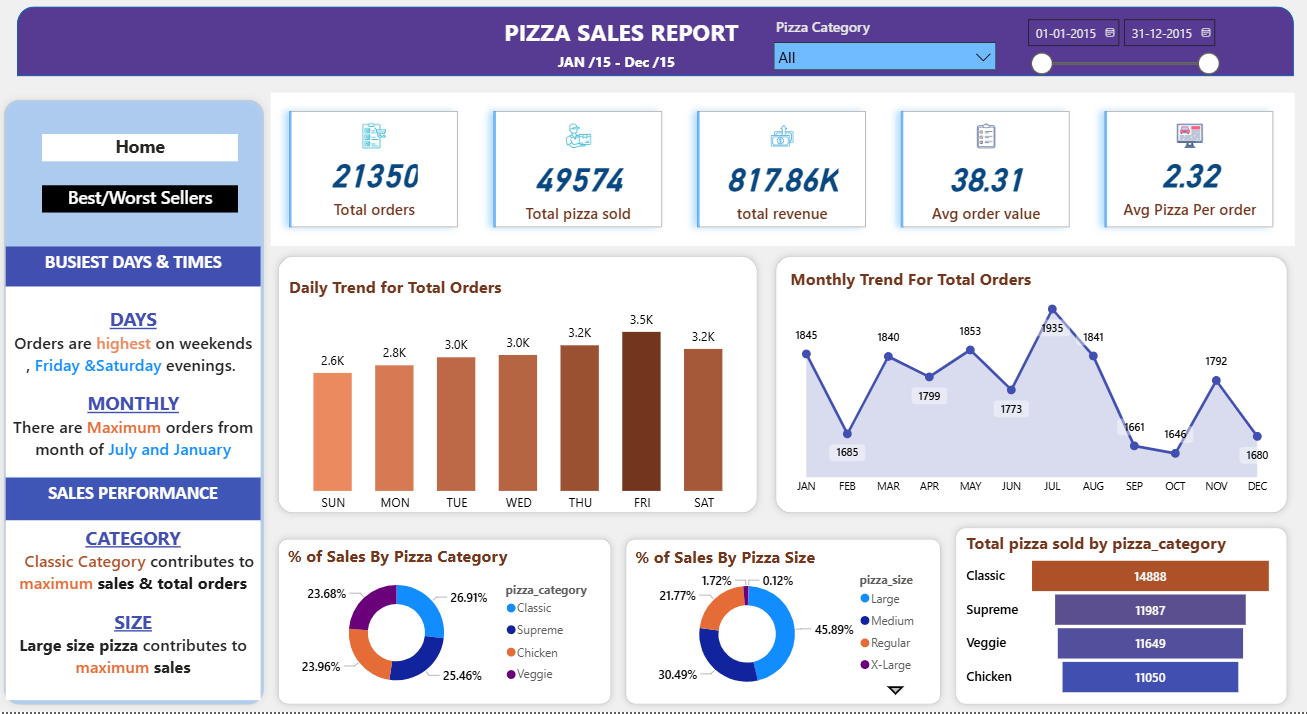

The dashboard page shown, as its layout file describes it:
{"tool":"powerbi","page":{"name":"HOME","canvas":[1500,820],"ordinal":0},"visuals":[{"type":"shape","box":[0,113,313,707.2],"z":0},{"type":"cardVisual","fields":{"Data":["pizza_sales (1).Total orders","pizza_sales (1).Total pizza sold","pizza_sales (1).total revenue","pizza_sales (1).Avg order value","pizza_sales (1).Avg Pizza Per order"]},"box":[312.5,112.5,1170.3,175],"z":1000},{"type":"shape","box":[23.4,14.1,1459.4,79.7],"z":2000},{"type":"textbox","box":[545.3,20.3,335.9,54.7],"z":3000},{"type":"textbox","box":[635.8,61.2,144.8,32.8],"z":4000},{"type":"shape","box":[312.9,291.4,564.3,310],"z":5000},{"type":"columnChart","title":"Daily Trend for Total Orders","fields":{"Category":["pizza_sales (1).Order Day"],"Y":["pizza_sales (1).Total orders"]},"box":[328.1,321.9,535.9,279.7],"z":6000},{"type":"shape","box":[881.4,291.4,601.4,310],"z":7000},{"type":"areaChart","title":"Monthly Trend For Total Orders","fields":{"Category":["pizza_sales (1).Order Month"],"Y":["pizza_sales (1).Total orders"]},"box":[901.4,312.9,562.9,268.6],"z":8000},{"type":"shape","box":[312.9,614.3,397.1,205.7],"z":9000},{"type":"shape","box":[710.1,614.5,376.8,205.8],"z":10000},{"type":"shape","box":[1087,601.4,395.7,218.8],"z":11000},{"type":"donutChart","title":"% of Sales By Pizza Category","fields":{"Category":["pizza_sales (1).pizza_category"],"Y":["pizza_sales (1).total revenue"]},"box":[327.5,629,368.1,178.3],"z":12000},{"type":"donutChart","title":"% of Sales By Pizza Size","fields":{"Y":["pizza_sales (1).total revenue"],"Category":["pizza_sales (1).pizza_size"]},"box":[724.6,630.4,346.4,178.3],"z":13000},{"type":"funnel","fields":{"Category":["pizza_sales (1).pizza_category"],"Y":["pizza_sales (1).Total pizza sold"]},"box":[1102.9,614.5,360.9,192.8],"z":14000},{"type":"textbox","box":[10.1,288.4,291.3,46.4],"z":15000},{"type":"textbox","box":[10.1,334.8,291.3,217.4],"z":16000},{"type":"textbox","box":[10.4,552.2,291,49.3],"z":17000},{"type":"textbox","box":[10.4,601.5,291,206],"z":18000},{"type":"slicer","fields":{"Values":["pizza_sales (1).pizza_category"]},"box":[877.6,20.9,274.6,71.6],"z":19000},{"type":"slicer","fields":{"Values":["pizza_sales (1).order_date"]},"box":[1165.7,17.9,240.3,74.6],"z":20000},{"type":"actionButton","title":"Best/Worst Sellers","box":[50.7,217.9,223.9,38.8],"z":21000},{"type":"actionButton","title":"Home","box":[50.7,159.7,223.9,40.3],"z":22000}]}

Visuals, with their boxes in screenshot pixels (x1, y1, x2, y2), scaled from the page's 1500x820 canvas onto the 1307x714 screenshot:
shape: <bbox>0, 98, 273, 713</bbox>
cardVisual - pizza_sales (1).Total orders x pizza_sales (1).Total pizza sold: <bbox>272, 98, 1292, 250</bbox>
shape: <bbox>20, 12, 1292, 82</bbox>
textbox: <bbox>475, 18, 768, 65</bbox>
textbox: <bbox>554, 53, 680, 82</bbox>
shape: <bbox>273, 254, 764, 524</bbox>
"Daily Trend for Total Orders" columnChart: <bbox>286, 280, 753, 524</bbox>
shape: <bbox>768, 254, 1292, 524</bbox>
"Monthly Trend For Total Orders" areaChart: <bbox>785, 272, 1276, 506</bbox>
shape: <bbox>273, 535, 619, 713</bbox>
shape: <bbox>619, 535, 947, 713</bbox>
shape: <bbox>947, 524, 1292, 713</bbox>
"% of Sales By Pizza Category" donutChart: <bbox>285, 548, 606, 703</bbox>
"% of Sales By Pizza Size" donutChart: <bbox>631, 549, 933, 704</bbox>
funnel - pizza_sales (1).pizza_category x pizza_sales (1).Total pizza sold: <bbox>961, 535, 1275, 703</bbox>
textbox: <bbox>9, 251, 263, 292</bbox>
textbox: <bbox>9, 292, 263, 481</bbox>
textbox: <bbox>9, 481, 263, 524</bbox>
textbox: <bbox>9, 524, 263, 703</bbox>
slicer - pizza_sales (1).pizza_category: <bbox>765, 18, 1004, 81</bbox>
slicer - pizza_sales (1).order_date: <bbox>1016, 16, 1225, 81</bbox>
"Best/Worst Sellers" actionButton: <bbox>44, 190, 239, 224</bbox>
"Home" actionButton: <bbox>44, 139, 239, 174</bbox>
